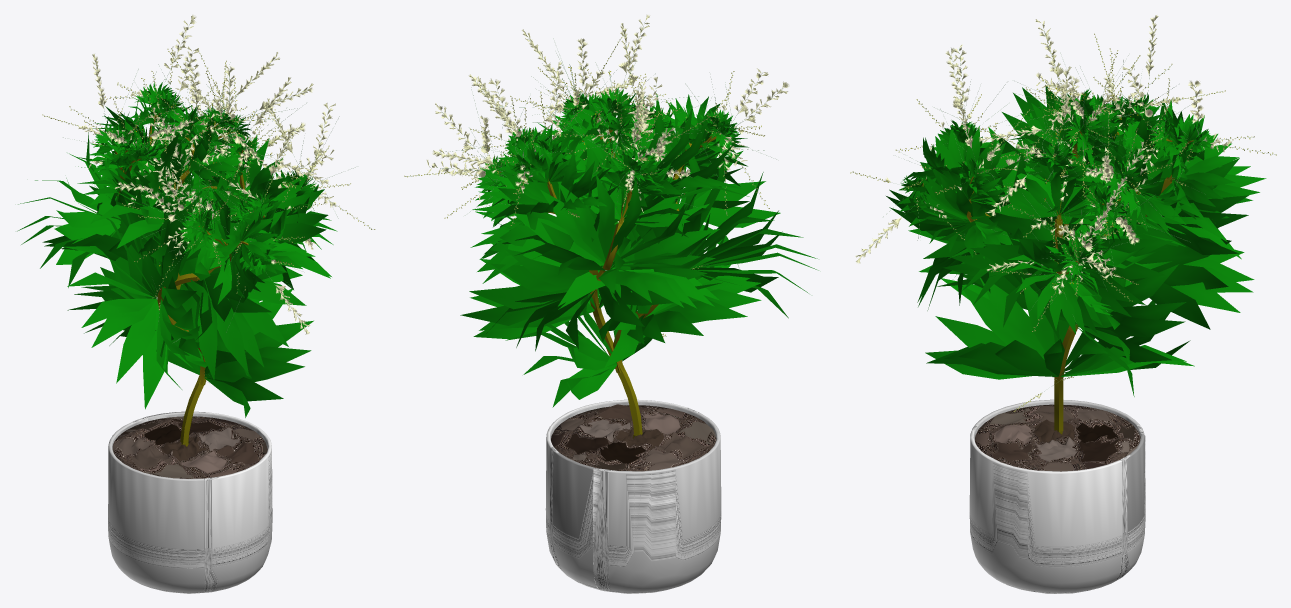
The model's file is moringaCompressed.glb.
3 renders of one model, left to right at view 1: azimuth 30°, elevation 25°; view 2: azimuth 150°, elevation 25°; view 3: azimuth 270°, elevation 25°, orthographic. The views are drawn at different scales.
Parts seen in each view (by area): view 1: Object_10, Object_5.001, Object_6.001; view 2: Object_10, Object_5.001, Object_6.001; view 3: Object_10, Object_5.001, Object_6.001.
Part boxes in pixels (<box>): Object_10: <box>17,15,375,446</box>; Object_5.001: <box>108,411,272,593</box>; Object_6.001: <box>112,416,267,478</box>; Object_10: <box>404,15,818,438</box>; Object_5.001: <box>545,399,721,593</box>; Object_6.001: <box>551,404,716,471</box>; Object_10: <box>850,15,1276,434</box>; Object_5.001: <box>969,399,1145,593</box>; Object_6.001: <box>975,404,1140,471</box>.
Bounding box in the file's own units: 342 × 528 × 371.
3 materials, 3 textured.
